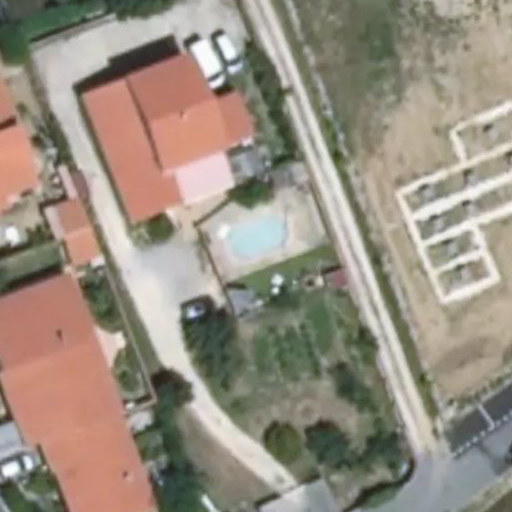pool: (216, 237, 295, 246)
